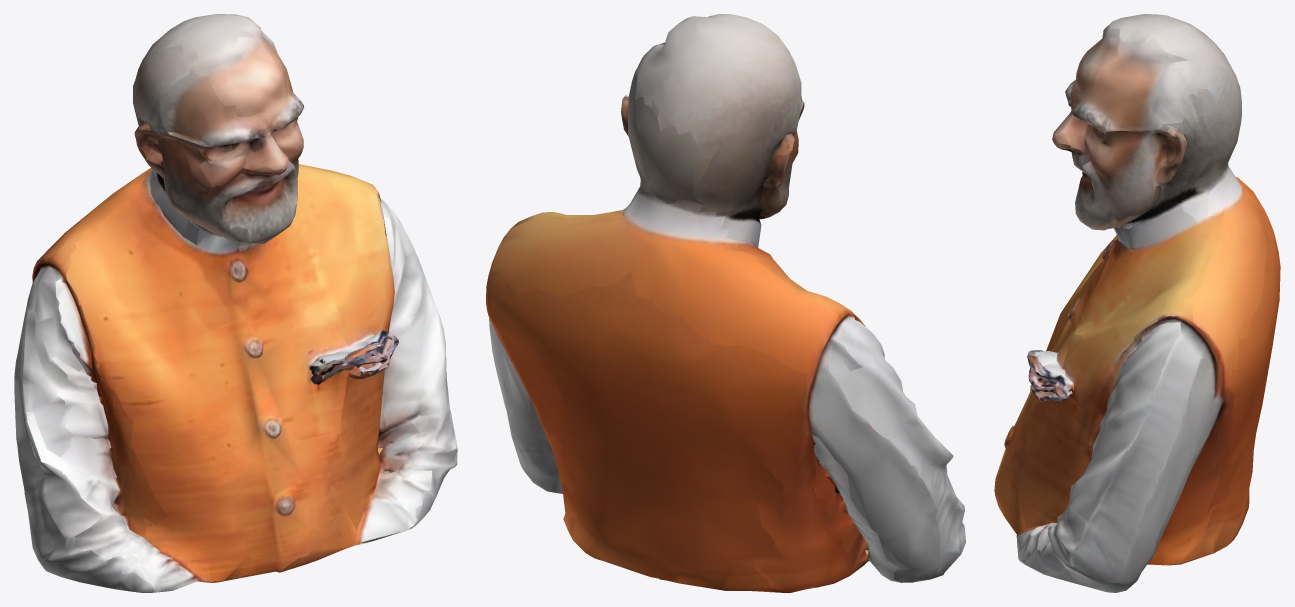
The model's file is stall-keeper.glb.
The picture shows the model from 3 angles, left to right: view 1: azimuth 30°, elevation 25°; view 2: azimuth 150°, elevation 25°; view 3: azimuth 270°, elevation 25°; orthographic projection. The views are drawn at different scales.
Visible parts, largest first — view 1: Object_5; view 2: Object_5; view 3: Object_5.
Boxes of the visible parts, <box> form: Object_5: <box>14,14,457,592</box>; Object_5: <box>486,14,965,592</box>; Object_5: <box>994,14,1280,592</box>.
Bounding box in the file's own units: 1.71 × 1.96 × 1.05.
1 material, 1 textured.
